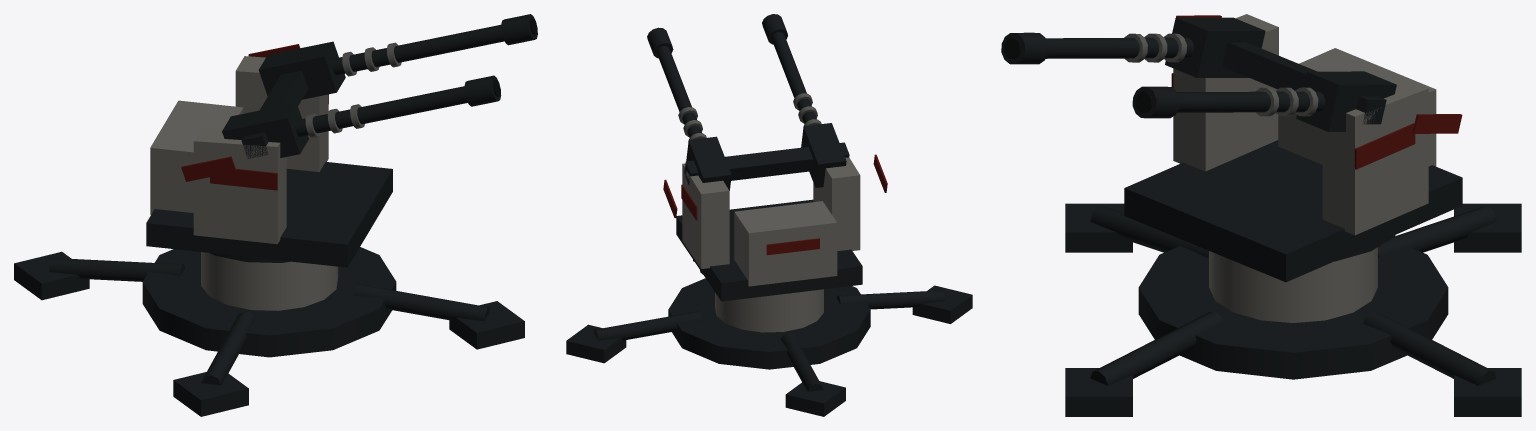
The picture shows the model from 3 angles, left to right: view 1: azimuth 30°, elevation 25°; view 2: azimuth 150°, elevation 25°; view 3: azimuth 270°, elevation 25°; orthographic projection. The views are drawn at different scales.
Parts seen in each view (by area): view 1: aa-gun-auto-fleet-machine, turret-fleet-armor, turret-fleet-machine, aa-barrel-right-fleet-machine, aa-barrel-left-fleet-machine, aa-gun-auto-fleet-armor, elevation-fleet-machine, elevation-fleet-red, turret-fleet-red, aa-barrel-right-fleet-edge, aa-barrel-left-fleet-edge; view 2: aa-gun-auto-fleet-machine, turret-fleet-armor, turret-fleet-machine, aa-gun-auto-fleet-armor, aa-barrel-left-fleet-machine, aa-barrel-right-fleet-machine, elevation-fleet-machine, turret-fleet-red, elevation-fleet-red, aa-barrel-left-fleet-edge, aa-barrel-right-fleet-edge; view 3: aa-gun-auto-fleet-machine, turret-fleet-machine, turret-fleet-armor, aa-gun-auto-fleet-armor, aa-barrel-left-fleet-machine, aa-barrel-right-fleet-machine, elevation-fleet-machine, turret-fleet-red, elevation-fleet-red, aa-barrel-left-fleet-edge, aa-barrel-right-fleet-edge.
Part boxes in pixels (left/top/right/bottom): aa-gun-auto-fleet-machine: left=14, top=247, right=524, bottom=416; turret-fleet-armor: left=150, top=56, right=328, bottom=244; turret-fleet-machine: left=146, top=162, right=392, bottom=267; aa-barrel-right-fleet-machine: left=258, top=14, right=537, bottom=99; aa-barrel-left-fleet-machine: left=222, top=75, right=501, bottom=157; aa-gun-auto-fleet-armor: left=201, top=252, right=338, bottom=310; elevation-fleet-machine: left=241, top=70, right=307, bottom=158; elevation-fleet-red: left=181, top=44, right=299, bottom=181; turret-fleet-red: left=210, top=94, right=328, bottom=190; aa-barrel-right-fleet-edge: left=342, top=42, right=401, bottom=76; aa-barrel-left-fleet-edge: left=305, top=104, right=364, bottom=137; aa-gun-auto-fleet-machine: left=566, top=260, right=972, bottom=416; turret-fleet-armor: left=682, top=157, right=860, bottom=286; turret-fleet-machine: left=676, top=199, right=862, bottom=301; aa-gun-auto-fleet-armor: left=715, top=289, right=823, bottom=332; aa-barrel-left-fleet-machine: left=762, top=14, right=846, bottom=187; aa-barrel-right-fleet-machine: left=647, top=27, right=731, bottom=190; elevation-fleet-machine: left=684, top=142, right=849, bottom=185; turret-fleet-red: left=681, top=184, right=819, bottom=255; elevation-fleet-red: left=663, top=154, right=887, bottom=218; aa-barrel-left-fleet-edge: left=793, top=93, right=821, bottom=126; aa-barrel-right-fleet-edge: left=678, top=107, right=706, bottom=141; aa-gun-auto-fleet-machine: left=1065, top=203, right=1521, bottom=416; turret-fleet-machine: left=1124, top=140, right=1462, bottom=282; turret-fleet-armor: left=1173, top=14, right=1436, bottom=235; aa-gun-auto-fleet-armor: left=1209, top=247, right=1377, bottom=322; aa-barrel-left-fleet-machine: left=1001, top=17, right=1265, bottom=77; aa-barrel-right-fleet-machine: left=1132, top=71, right=1396, bottom=131; elevation-fleet-machine: left=1222, top=42, right=1386, bottom=124; turret-fleet-red: left=1171, top=73, right=1415, bottom=169; elevation-fleet-red: left=1176, top=15, right=1462, bottom=133; aa-barrel-left-fleet-edge: left=1124, top=33, right=1186, bottom=62; aa-barrel-right-fleet-edge: left=1255, top=87, right=1318, bottom=116.
Bounding box in the file's own units: 19.28 × 14.29 × 19.13.
